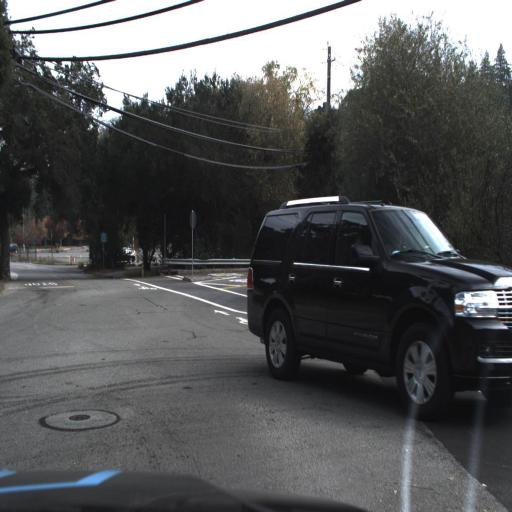car: (244, 189, 510, 417)
